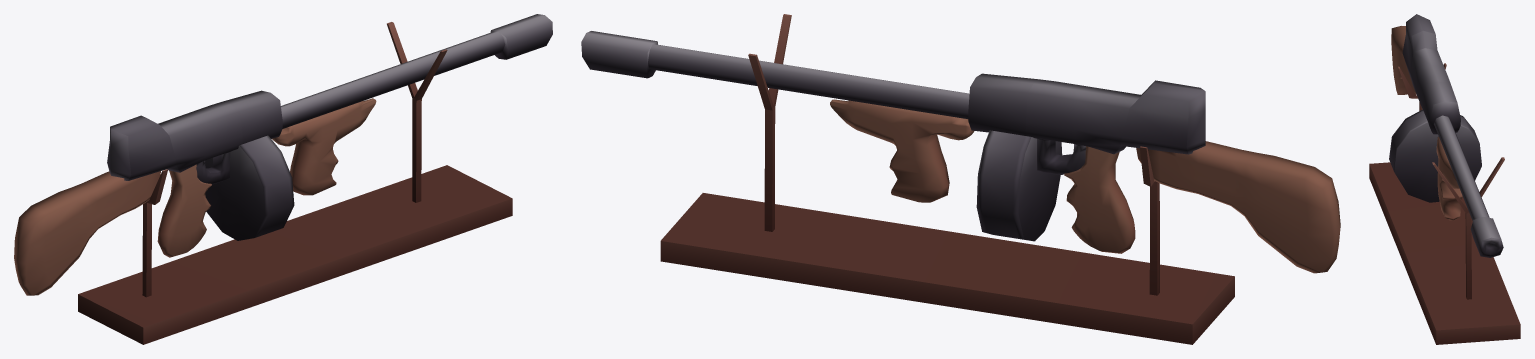
File: mesh_tommy_gun_fixed_normals.fbx
3 views of the same model, side by side, from view 1: azimuth 30°, elevation 25°; view 2: azimuth 150°, elevation 25°; view 3: azimuth 270°, elevation 25° (orthographic). The views are drawn at different scales.
Parts seen in each view (by area): view 1: tommy_gun, stand; view 2: tommy_gun, stand; view 3: stand, tommy_gun.
Part boxes in pixels (<box>): tommy_gun: <box>14,14,552,295</box>; stand: <box>78,22,512,344</box>; tommy_gun: <box>581,31,1340,273</box>; stand: <box>660,14,1234,344</box>; stand: <box>1369,63,1520,344</box>; tommy_gun: <box>1389,14,1503,257</box>.
Bounding box in the file's own units: 272 × 86.82 × 73.1.
